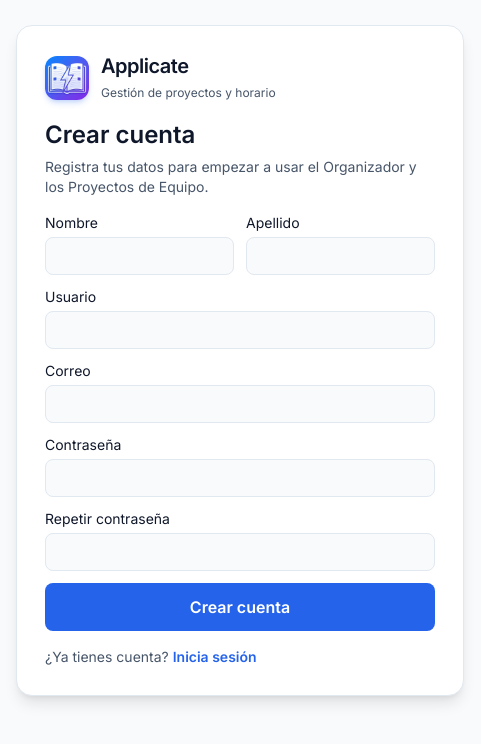
Test: RegisterPage › valida longitud mínima de 8 caracteres para la contraseña
Type "Matías" into the field labelled "Nombre".
click(140, 256); type("Matías")  # box [45, 236, 234, 274]
Type "González" into the field labelled "Apellido".
click(340, 256); type("González")  # box [246, 236, 435, 274]
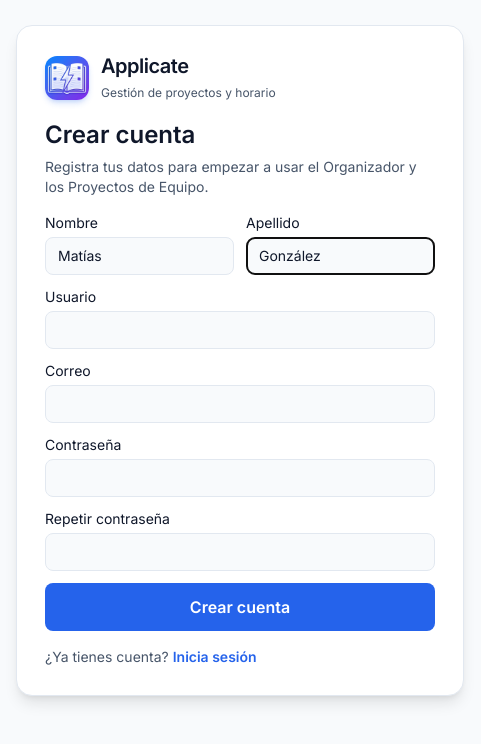
Type "mgonzalez" into the field labelled "Usuario".
click(240, 330); type("mgonzalez")  # box [45, 310, 435, 348]
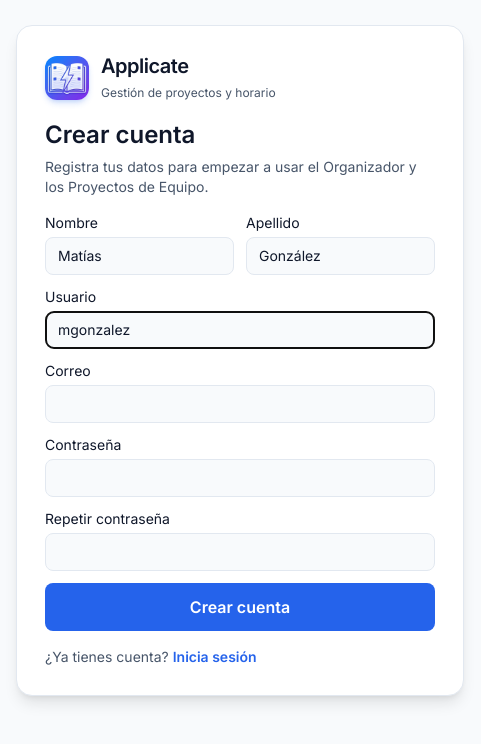
Type "mgonzalez@uc.cl" into the field labelled "Correo".
click(240, 404); type("mgonzalez@uc.cl")  # box [45, 384, 435, 422]
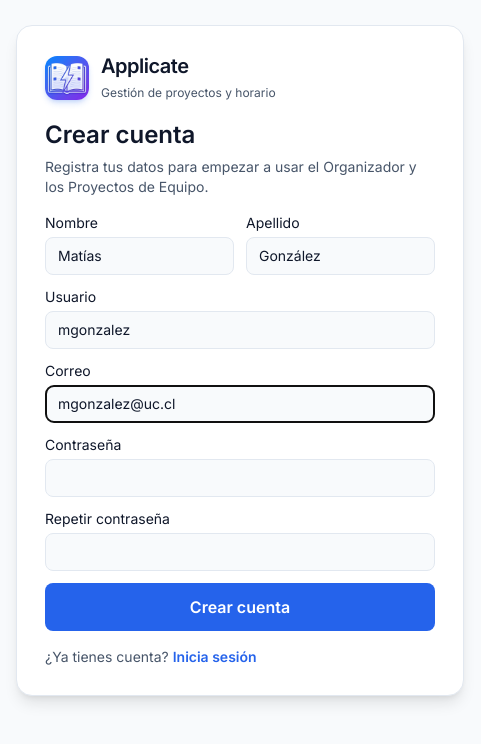
Type "1234567" into the password field labelled "Contraseña".
click(240, 478); type("1234567")  # box [45, 458, 435, 496]
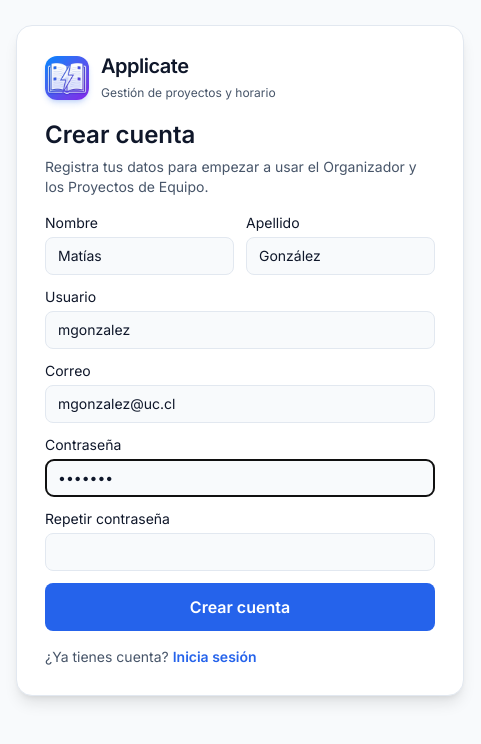
Type "1234567" into the password field labelled "Repetir contraseña".
click(240, 552); type("1234567")  # box [45, 532, 435, 570]
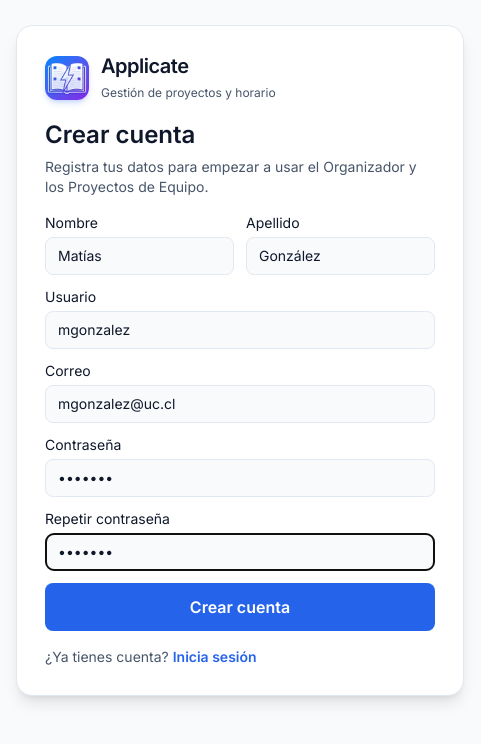
Submit the form "Crear cuenta", box [45, 212, 435, 630]
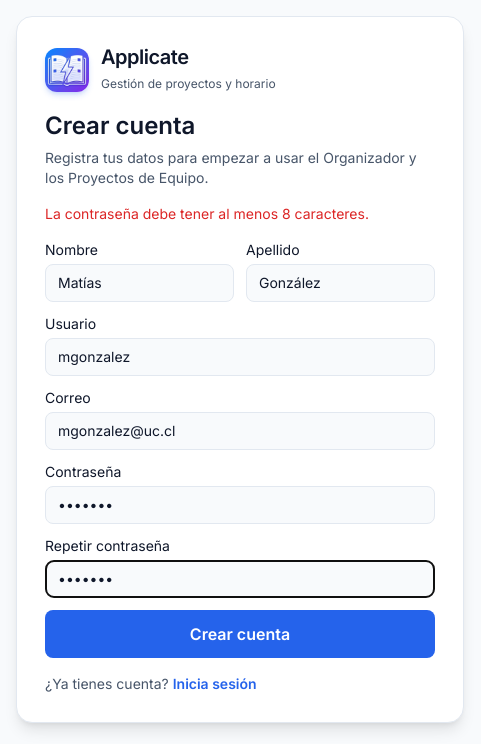
Result: the message reads "La contraseña debe tener al menos 8 caracteres." at [45, 205, 369, 222]
